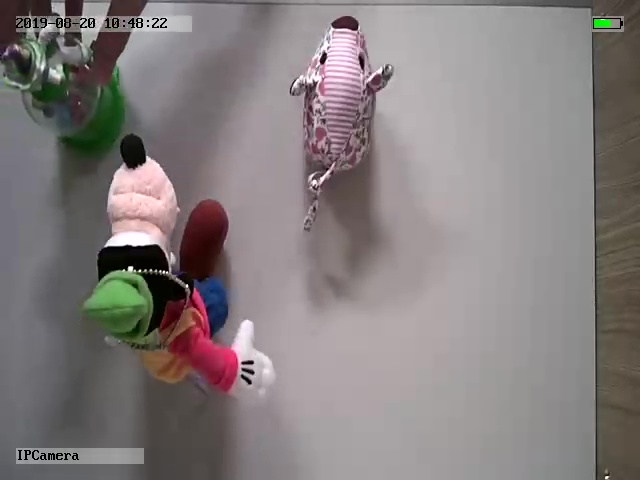goofy: (79, 130, 276, 405)
pig: (286, 15, 396, 233)
